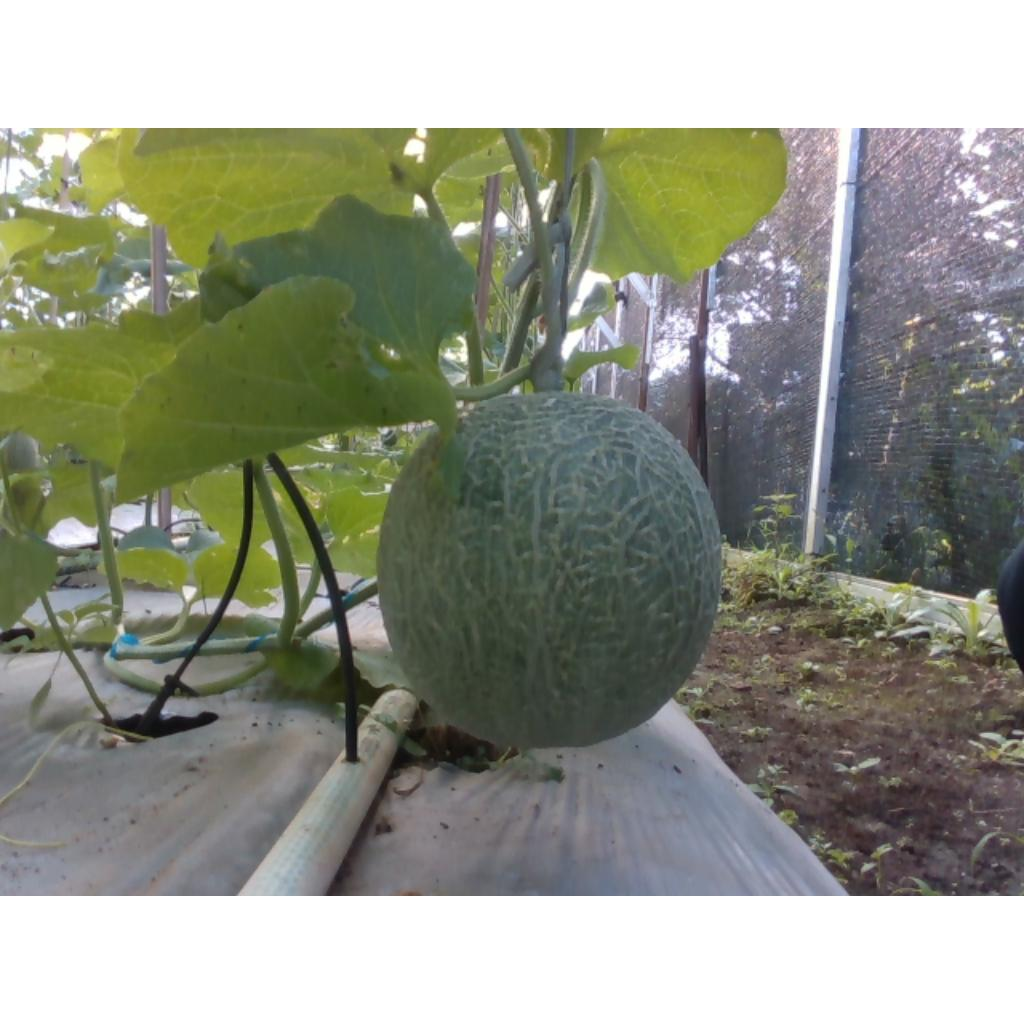melon: (378, 392, 723, 750)
